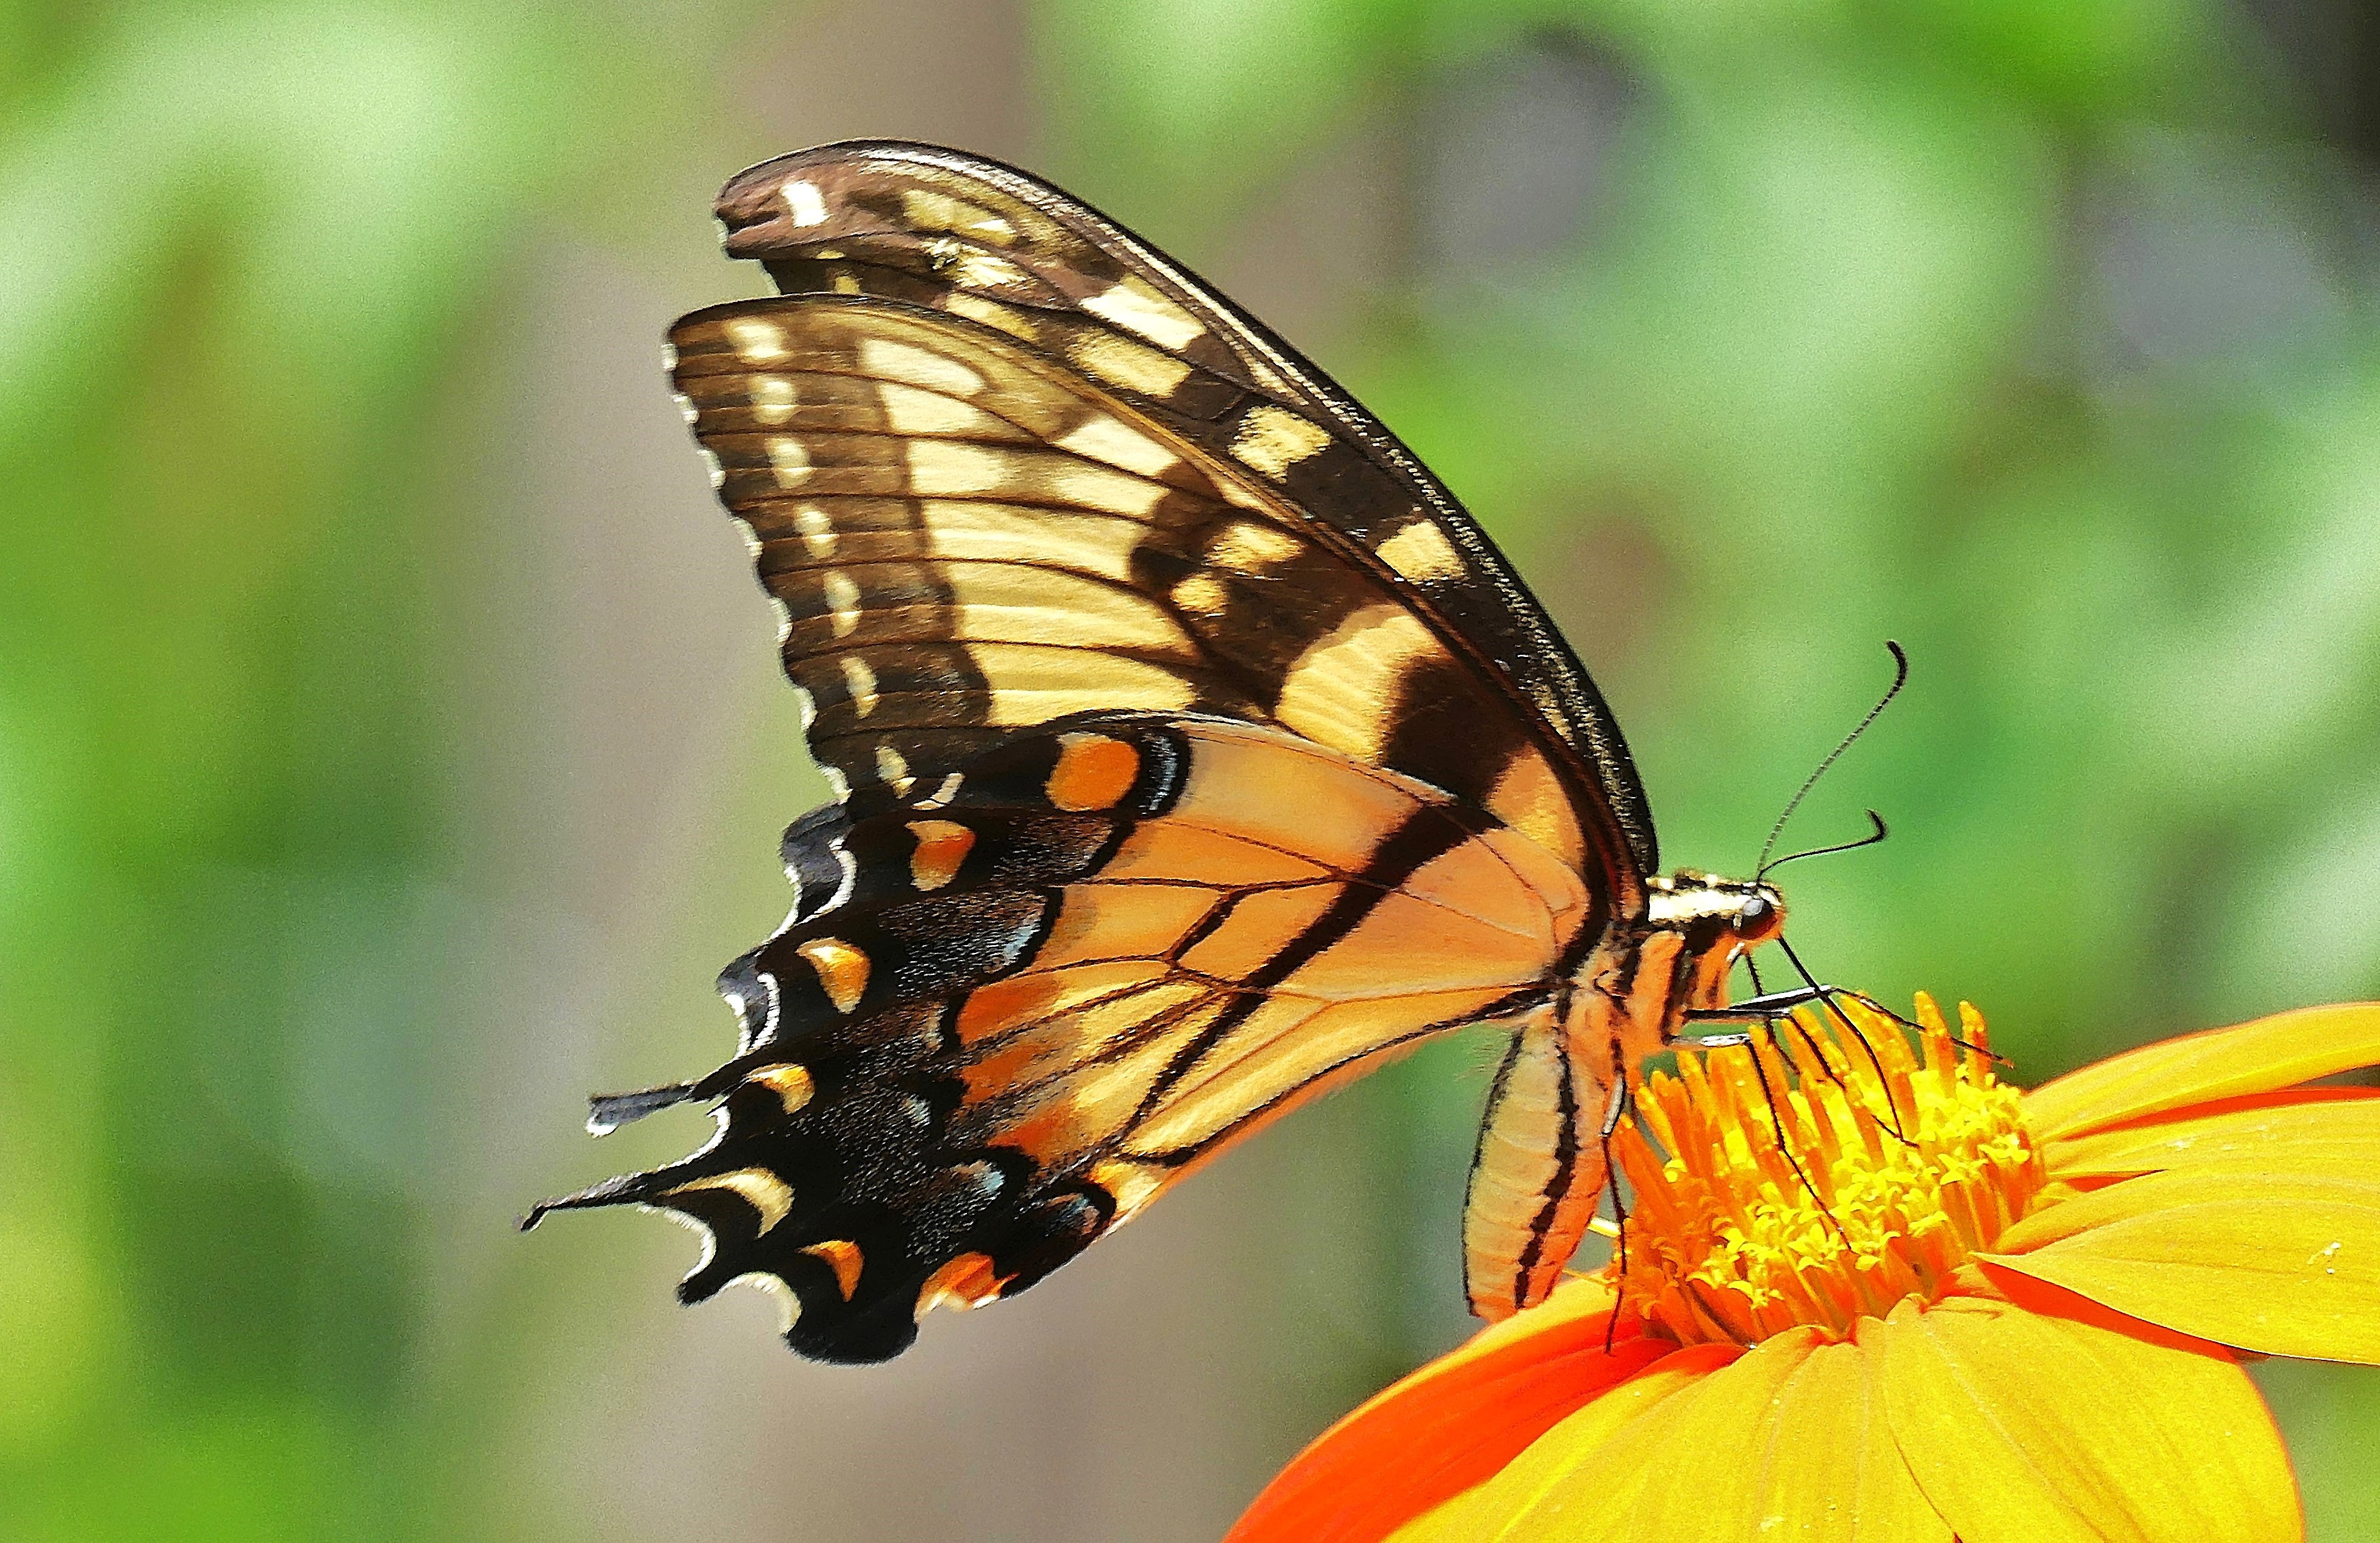Butterfly: (555, 146, 1920, 1356)
